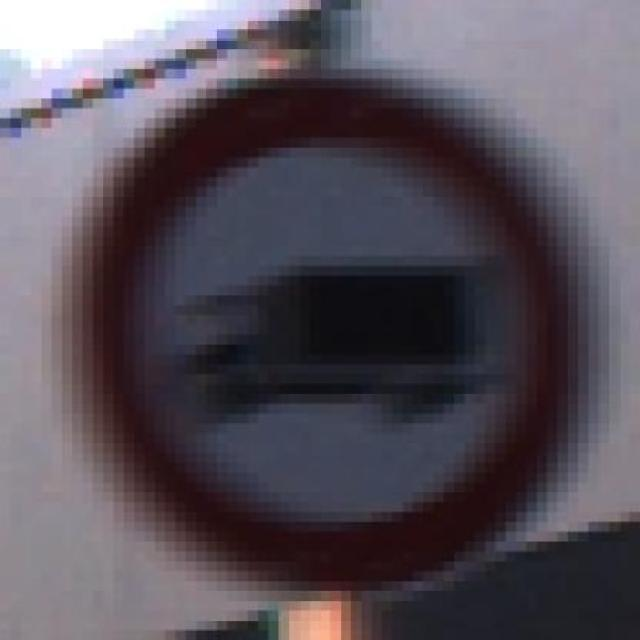Truck traffic is prohibited: (51, 49, 609, 591)
